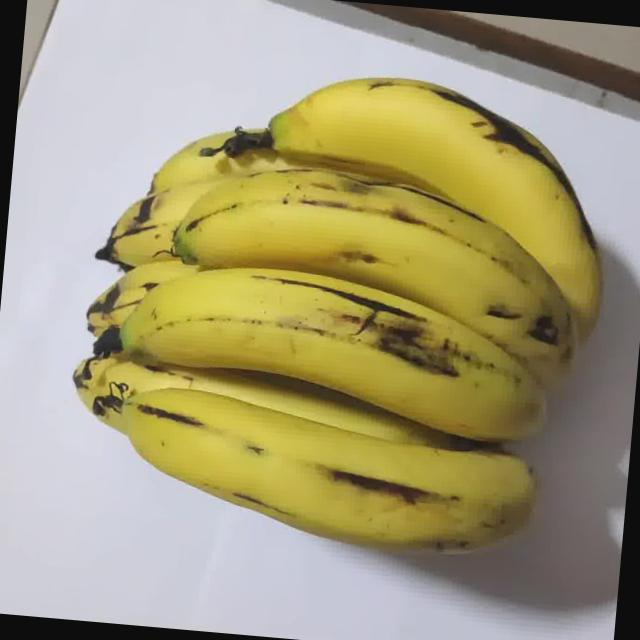banana_pacche: (40, 24, 638, 607)
